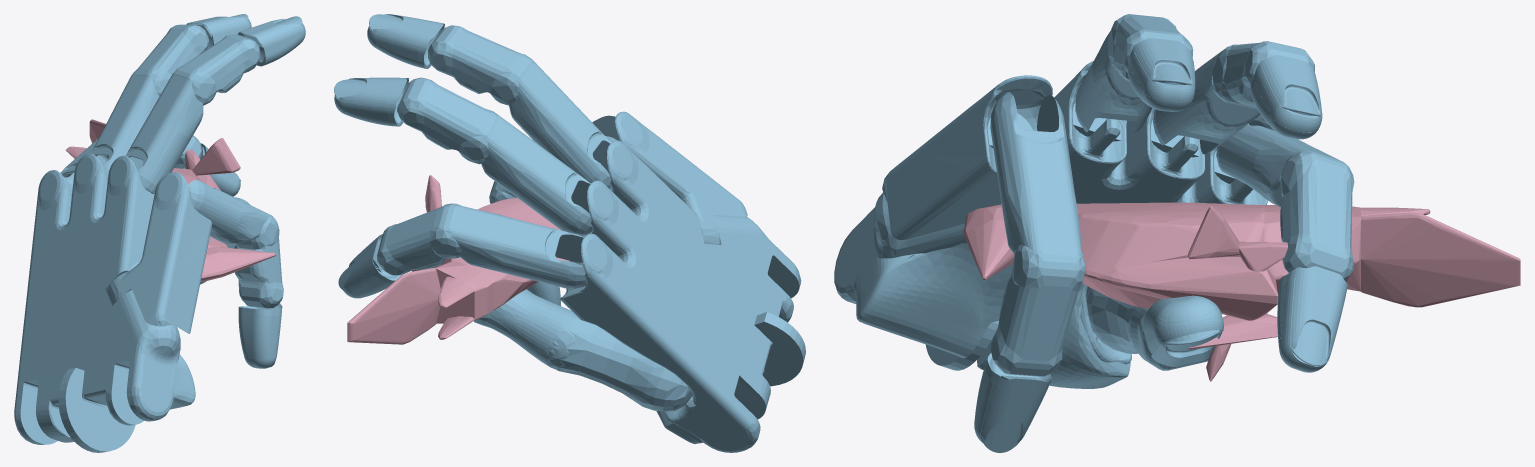
3 renders of one model, left to right at view 1: azimuth 30°, elevation 25°; view 2: azimuth 150°, elevation 25°; view 3: azimuth 270°, elevation 25°, orthographic. The views are drawn at different scales.
Parts seen in each view (by area): view 1: hand_isaac_q, world; view 2: hand_isaac_q, world; view 3: hand_isaac_q, world.
Part boxes in pixels (bbox=[...]): hand_isaac_q: bbox=[14, 14, 305, 452]; world: bbox=[66, 119, 275, 281]; hand_isaac_q: bbox=[334, 14, 805, 452]; world: bbox=[347, 175, 571, 344]; hand_isaac_q: bbox=[834, 14, 1354, 452]; world: bbox=[963, 202, 1520, 381].
Size of the model in its own units: 0.1484 by 0.1526 by 0.1845.
